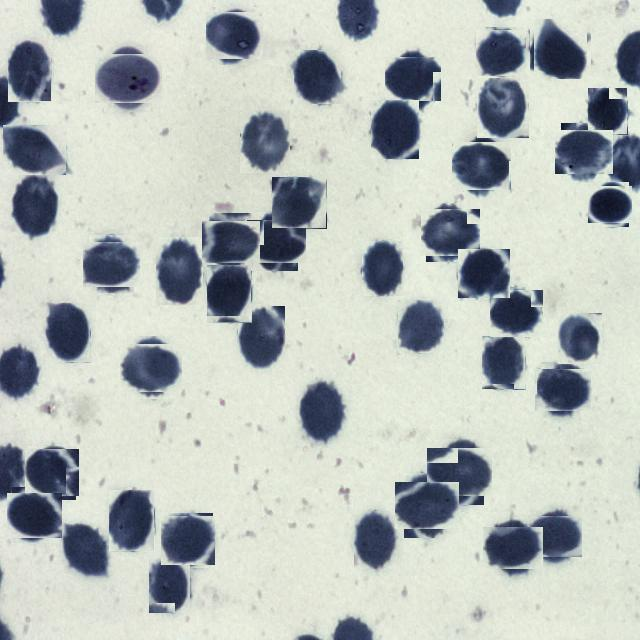red blood cell: (3, 125, 67, 176), (532, 21, 589, 78), (477, 76, 529, 138), (156, 237, 203, 305), (432, 444, 488, 501), (240, 110, 290, 173), (400, 478, 456, 534), (238, 306, 285, 370), (10, 175, 58, 237), (124, 340, 178, 395), (455, 139, 509, 193), (423, 206, 477, 260), (272, 177, 327, 229), (109, 490, 155, 552), (371, 100, 419, 159), (162, 514, 215, 566), (208, 9, 260, 62), (8, 40, 52, 102), (86, 238, 138, 290), (558, 126, 610, 178), (486, 522, 538, 574), (46, 303, 91, 363), (299, 383, 344, 442), (250, 216, 302, 267), (207, 265, 252, 323), (354, 511, 398, 570), (27, 448, 78, 498), (205, 217, 256, 267), (458, 249, 510, 298), (294, 50, 341, 104), (388, 54, 438, 104), (10, 490, 60, 540), (492, 288, 542, 338), (62, 524, 108, 578), (538, 366, 588, 414), (398, 300, 443, 353), (482, 336, 526, 390), (149, 558, 191, 614), (531, 513, 579, 561), (477, 28, 525, 76), (362, 241, 403, 296), (558, 313, 602, 364), (588, 88, 628, 135), (590, 184, 631, 225)
ring: (100, 49, 158, 107)
